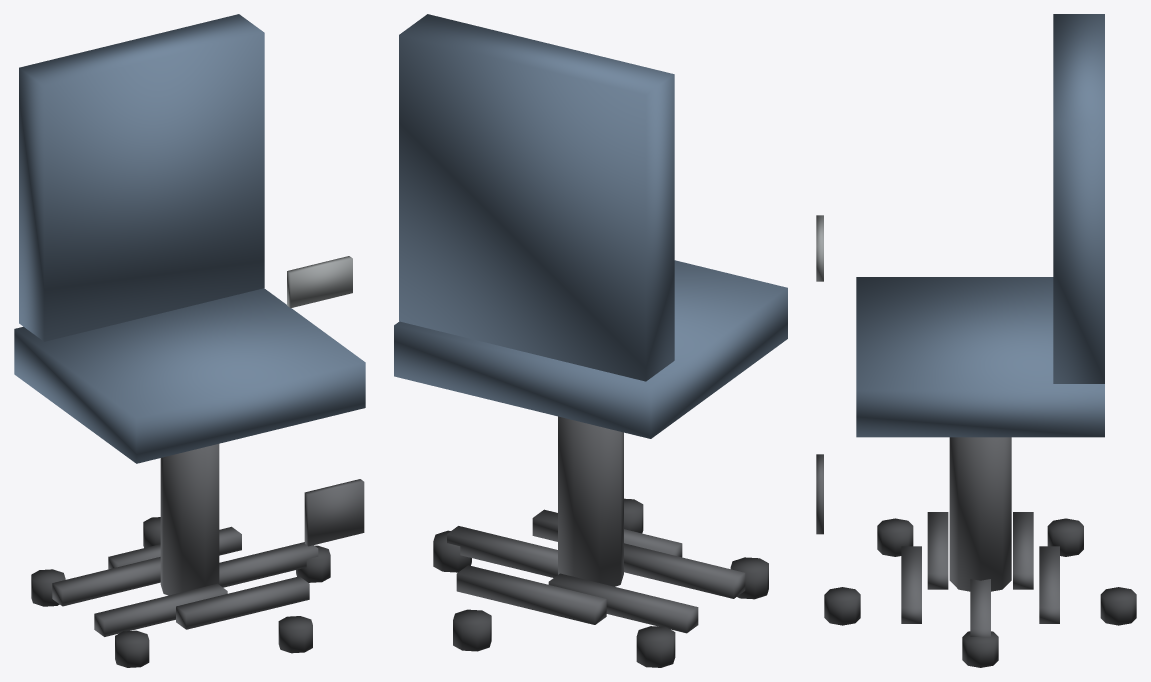
File: office_task_chair__weathered.glb
3 renders of one model, left to right at view 1: azimuth 30°, elevation 25°; view 2: azimuth 150°, elevation 25°; view 3: azimuth 270°, elevation 25°, orthographic. The views are drawn at different scales.
Visible parts, largest first — view 1: world; view 2: world; view 3: world.
Part boxes in pixels (bbox=[...]): world: bbox=[14, 14, 365, 667]; world: bbox=[394, 14, 787, 667]; world: bbox=[816, 14, 1136, 667].
Size of the model in its own units: 0.5765 by 1.13 by 0.6186.
